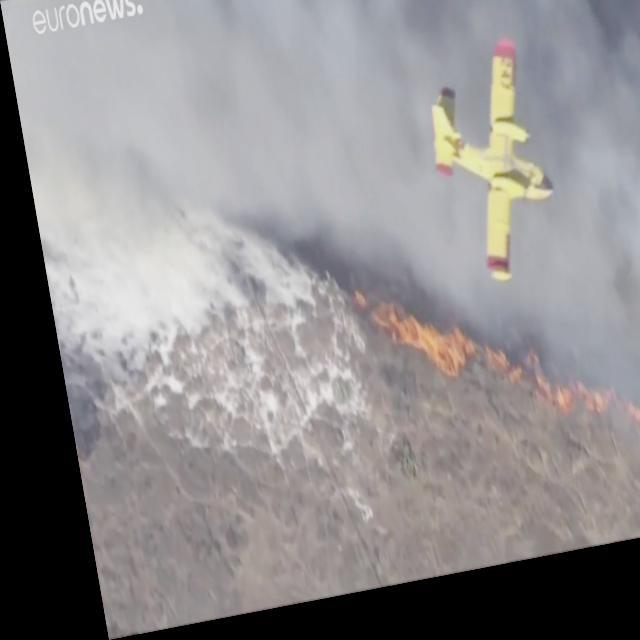Fire: (470, 341, 636, 478), (337, 290, 470, 399)
